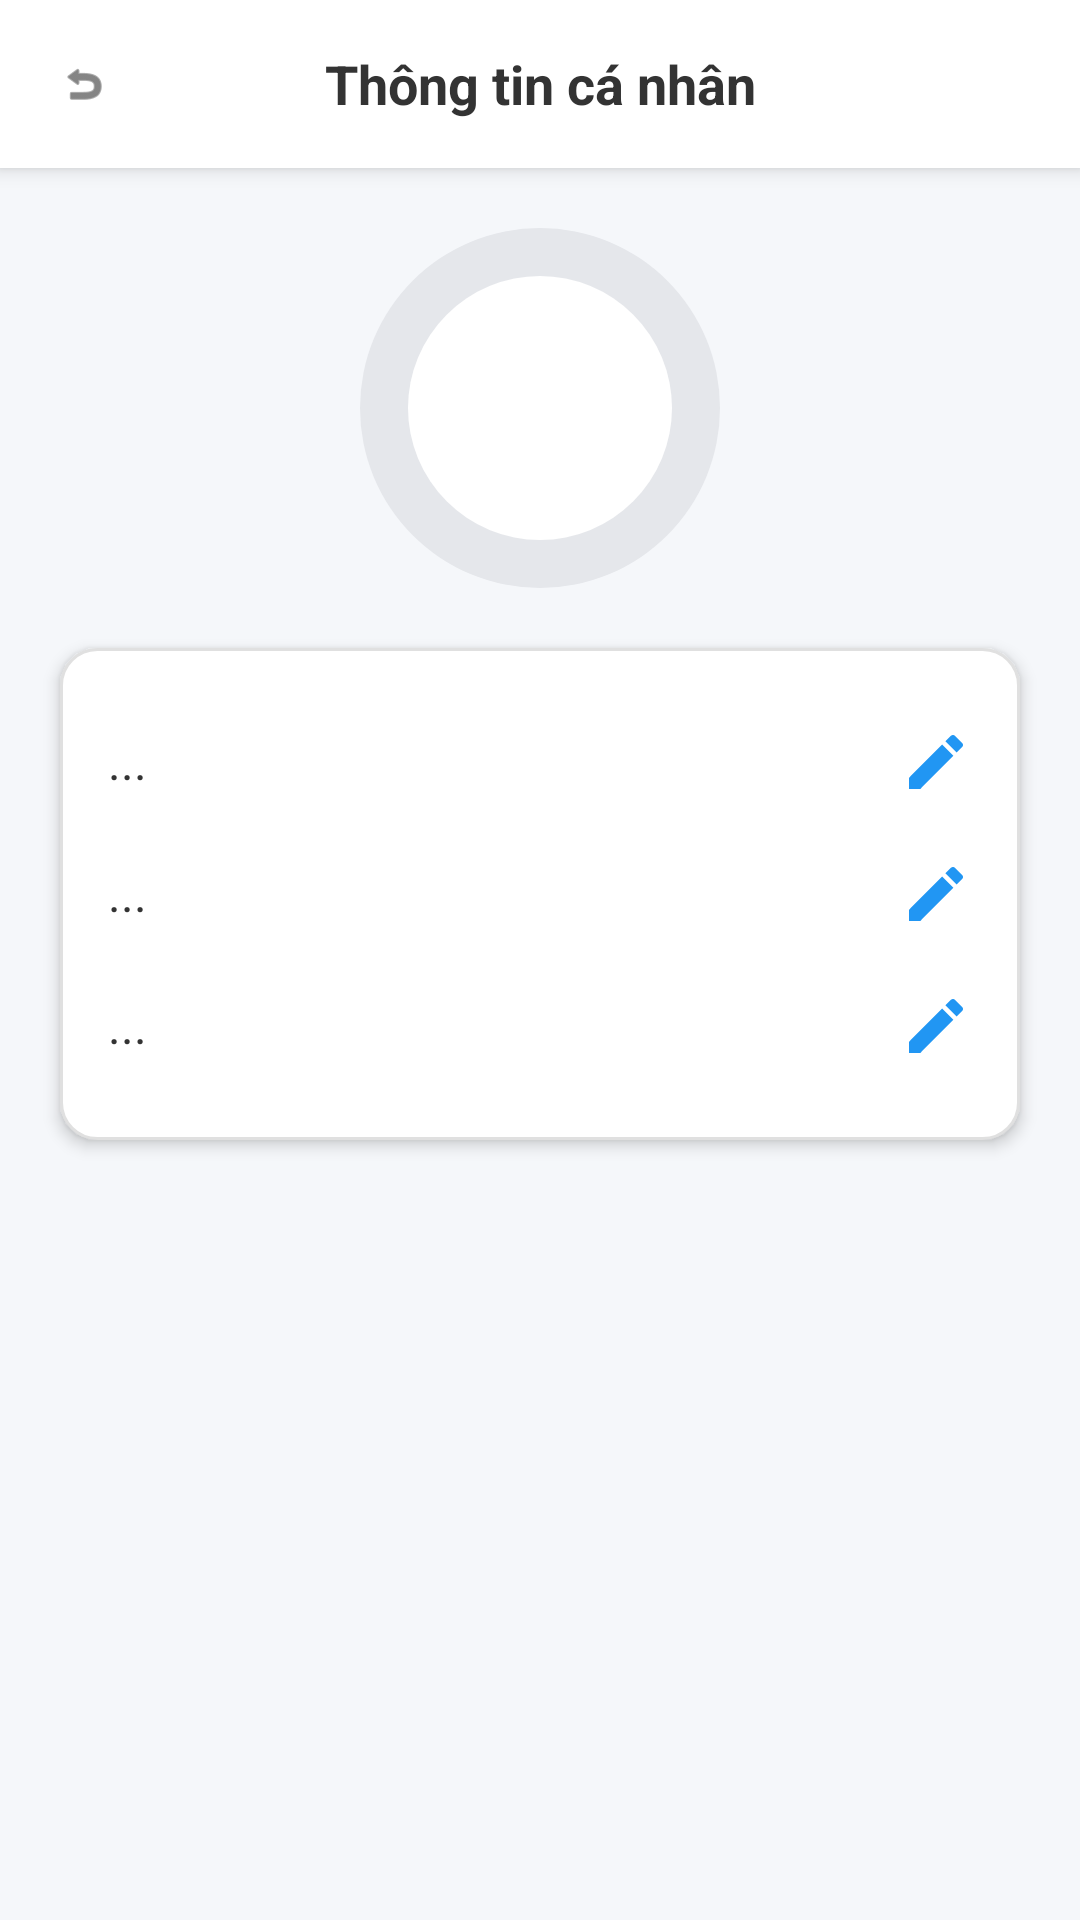

Point at icon controls on the screen. Image size 1080x1920, points as (x=x, y=y).
edit: (x=936, y=762), (x=936, y=894), (x=936, y=1026)
revert: (x=84, y=84)
